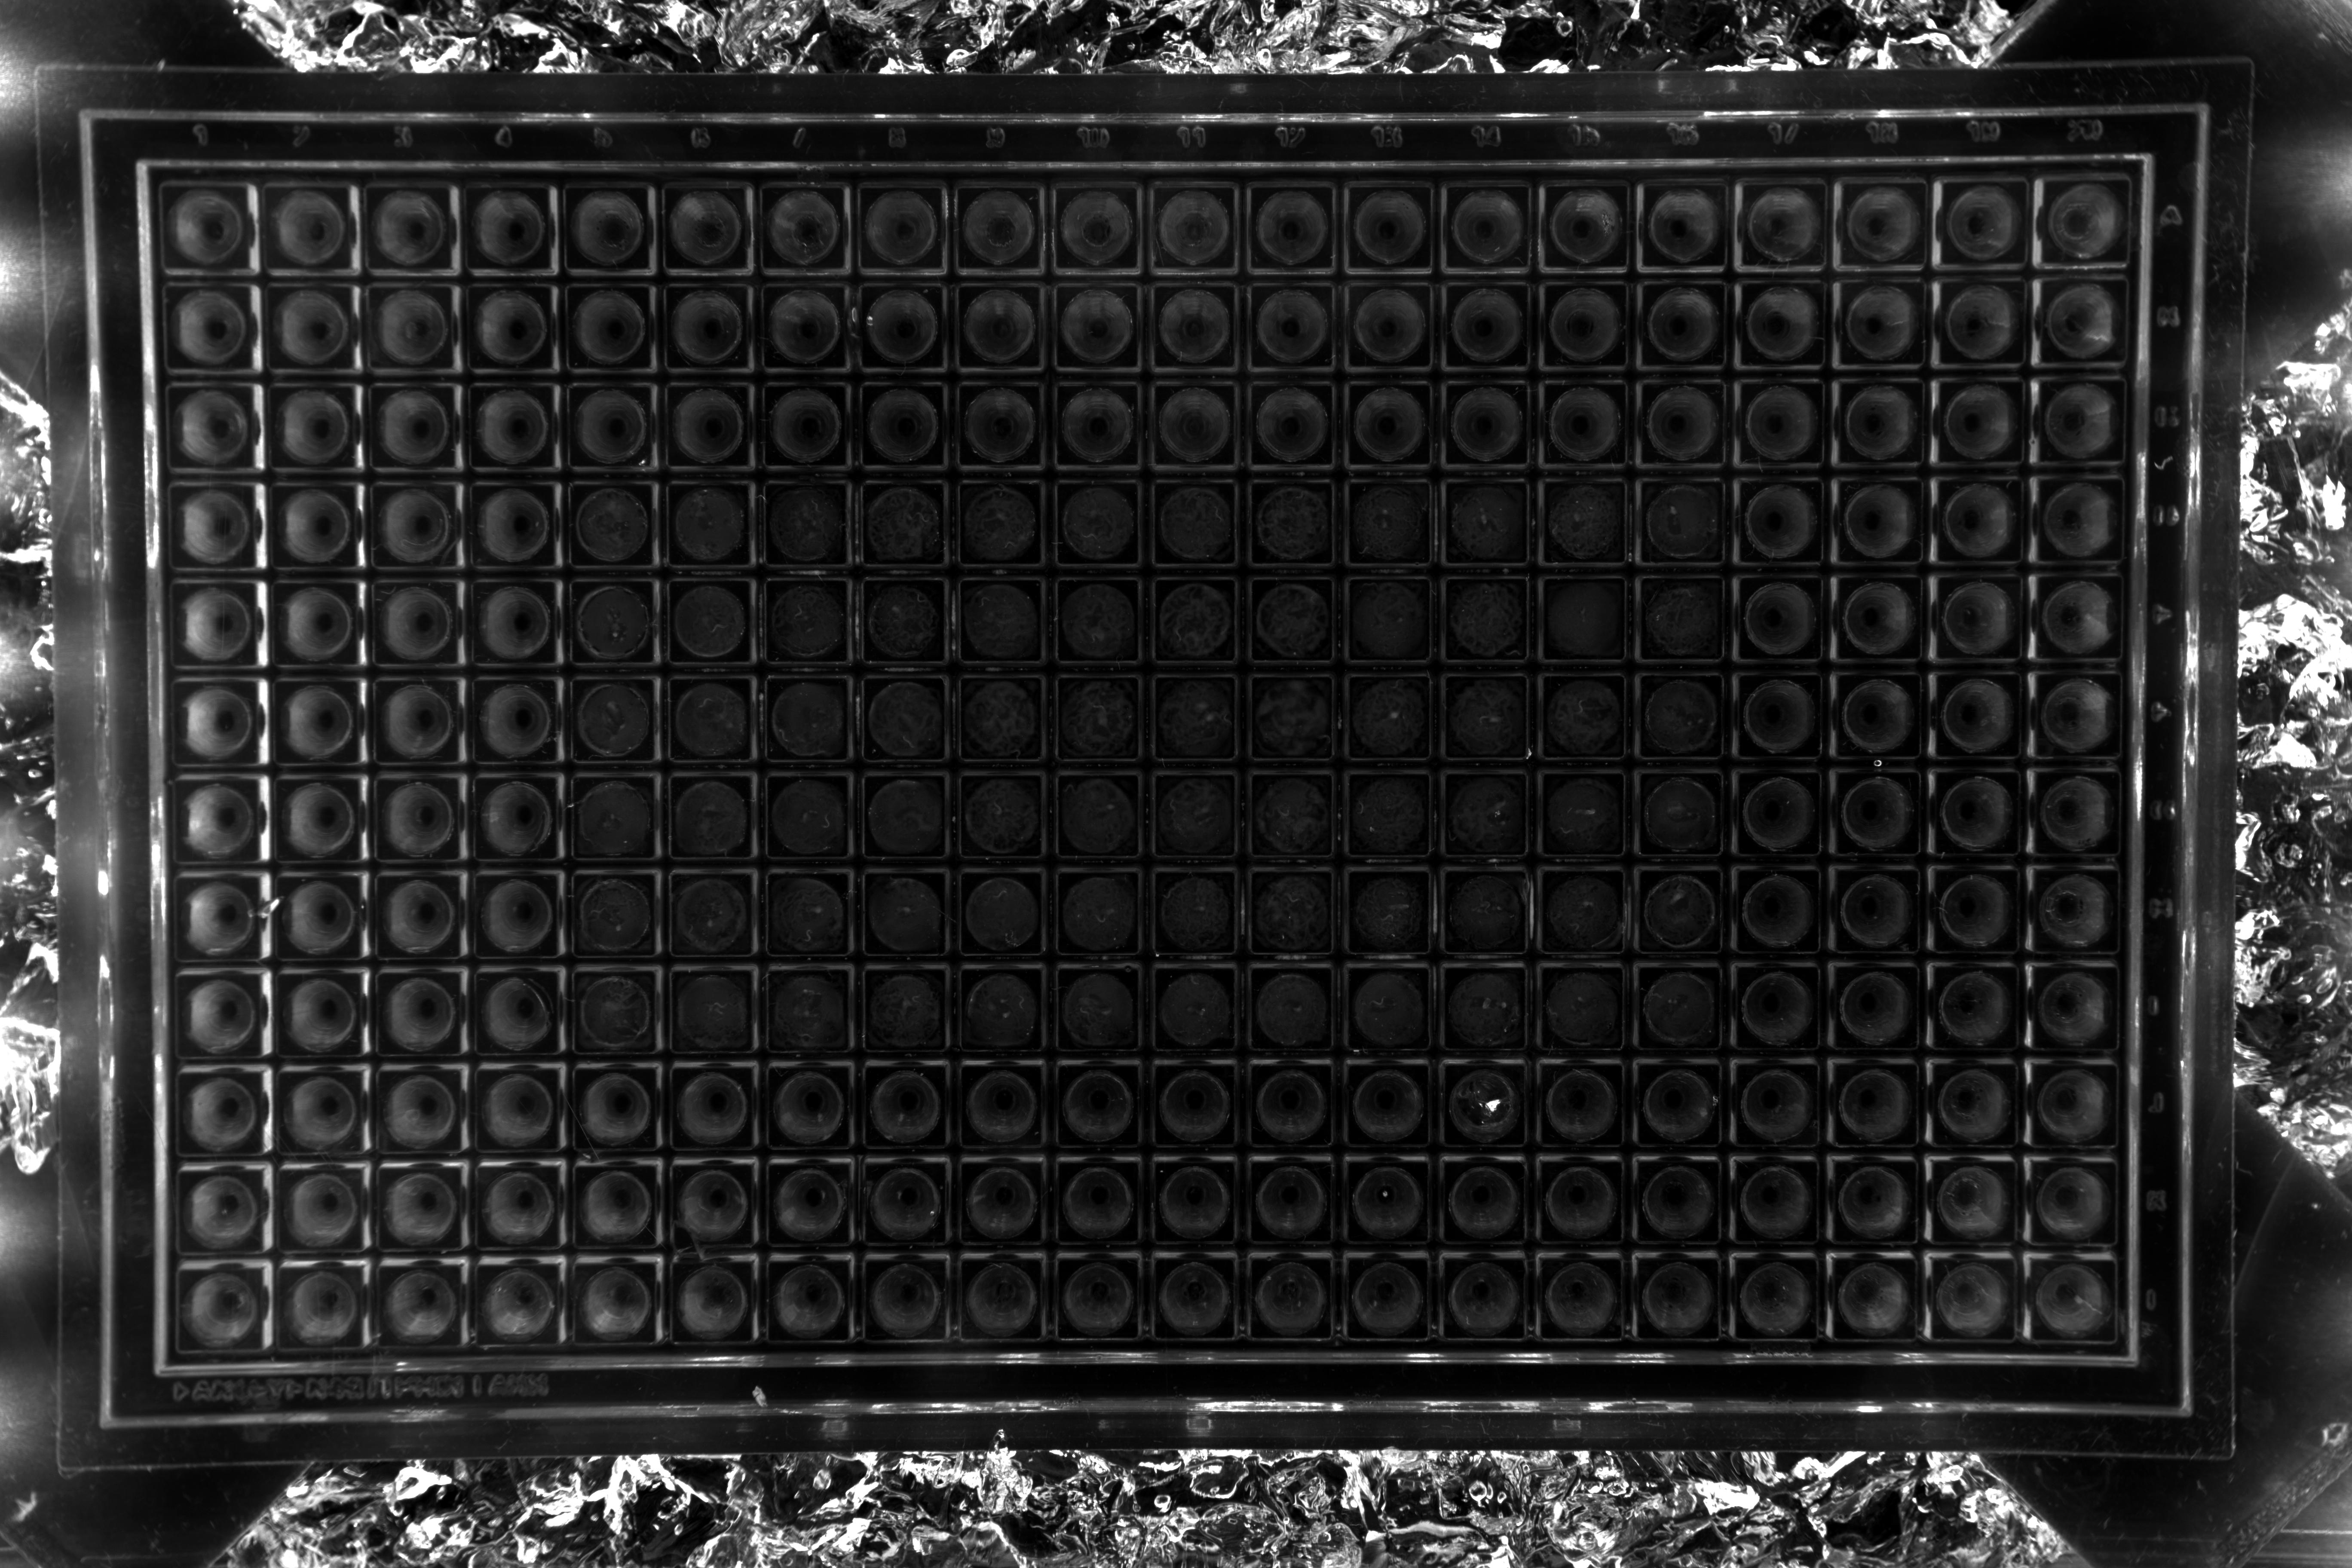WM_well: (203, 829, 292, 917), (1176, 1209, 1263, 1298), (1368, 1209, 1456, 1298), (789, 632, 877, 719), (789, 728, 877, 815), (789, 824, 877, 912), (882, 241, 969, 329), (884, 338, 971, 425), (887, 1211, 975, 1298), (982, 436, 1069, 523), (1080, 1113, 1167, 1200), (1274, 140, 1361, 227), (1370, 532, 1458, 619), (1465, 1113, 1552, 1200), (1468, 434, 1556, 521), (1561, 1211, 1648, 1298), (1563, 1017, 1650, 1104), (1564, 822, 1652, 910), (1666, 233, 1753, 320), (1759, 1017, 1846, 1104), (1760, 920, 1848, 1008), (1760, 822, 1848, 910), (2058, 723, 2145, 810), (2060, 625, 2147, 712), (2063, 227, 2151, 315)
